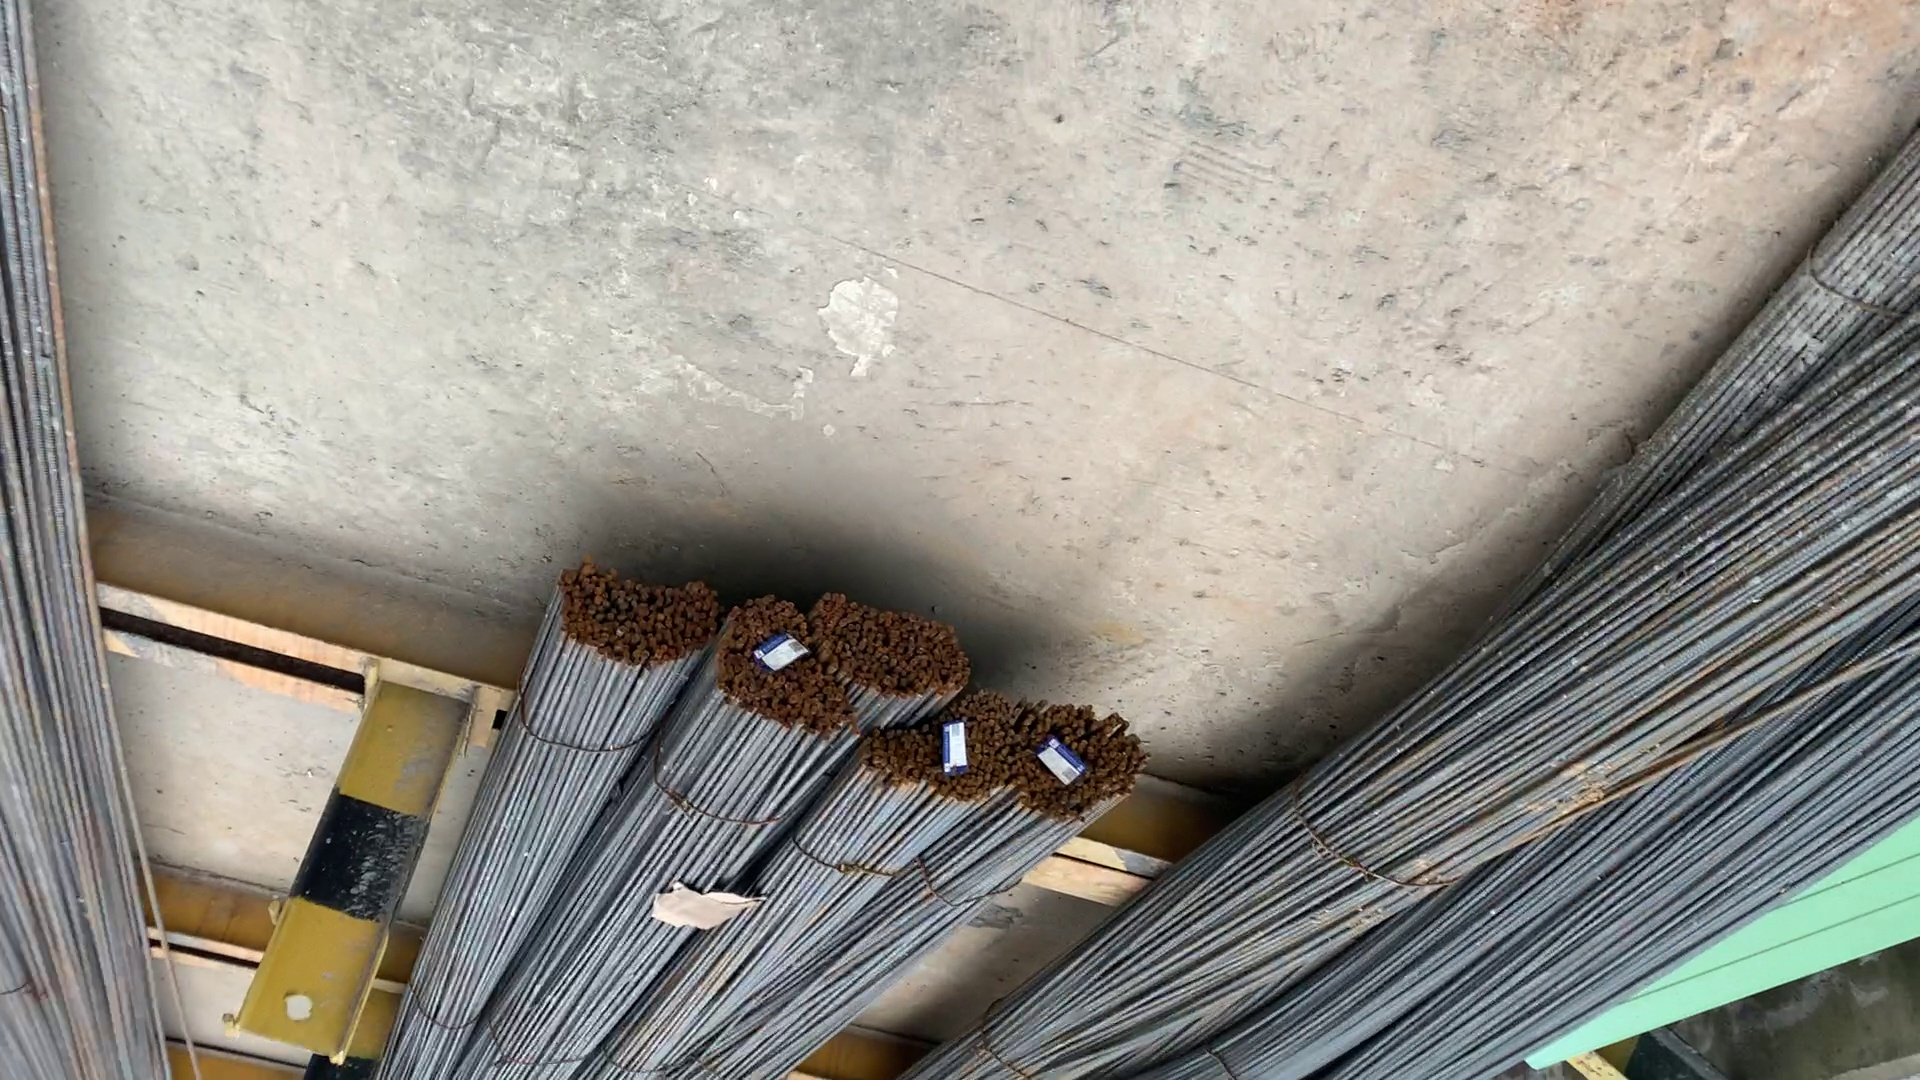rebar: (719, 611, 845, 742), (554, 564, 713, 665), (1025, 703, 1149, 827), (824, 599, 971, 699), (873, 698, 1019, 794)
